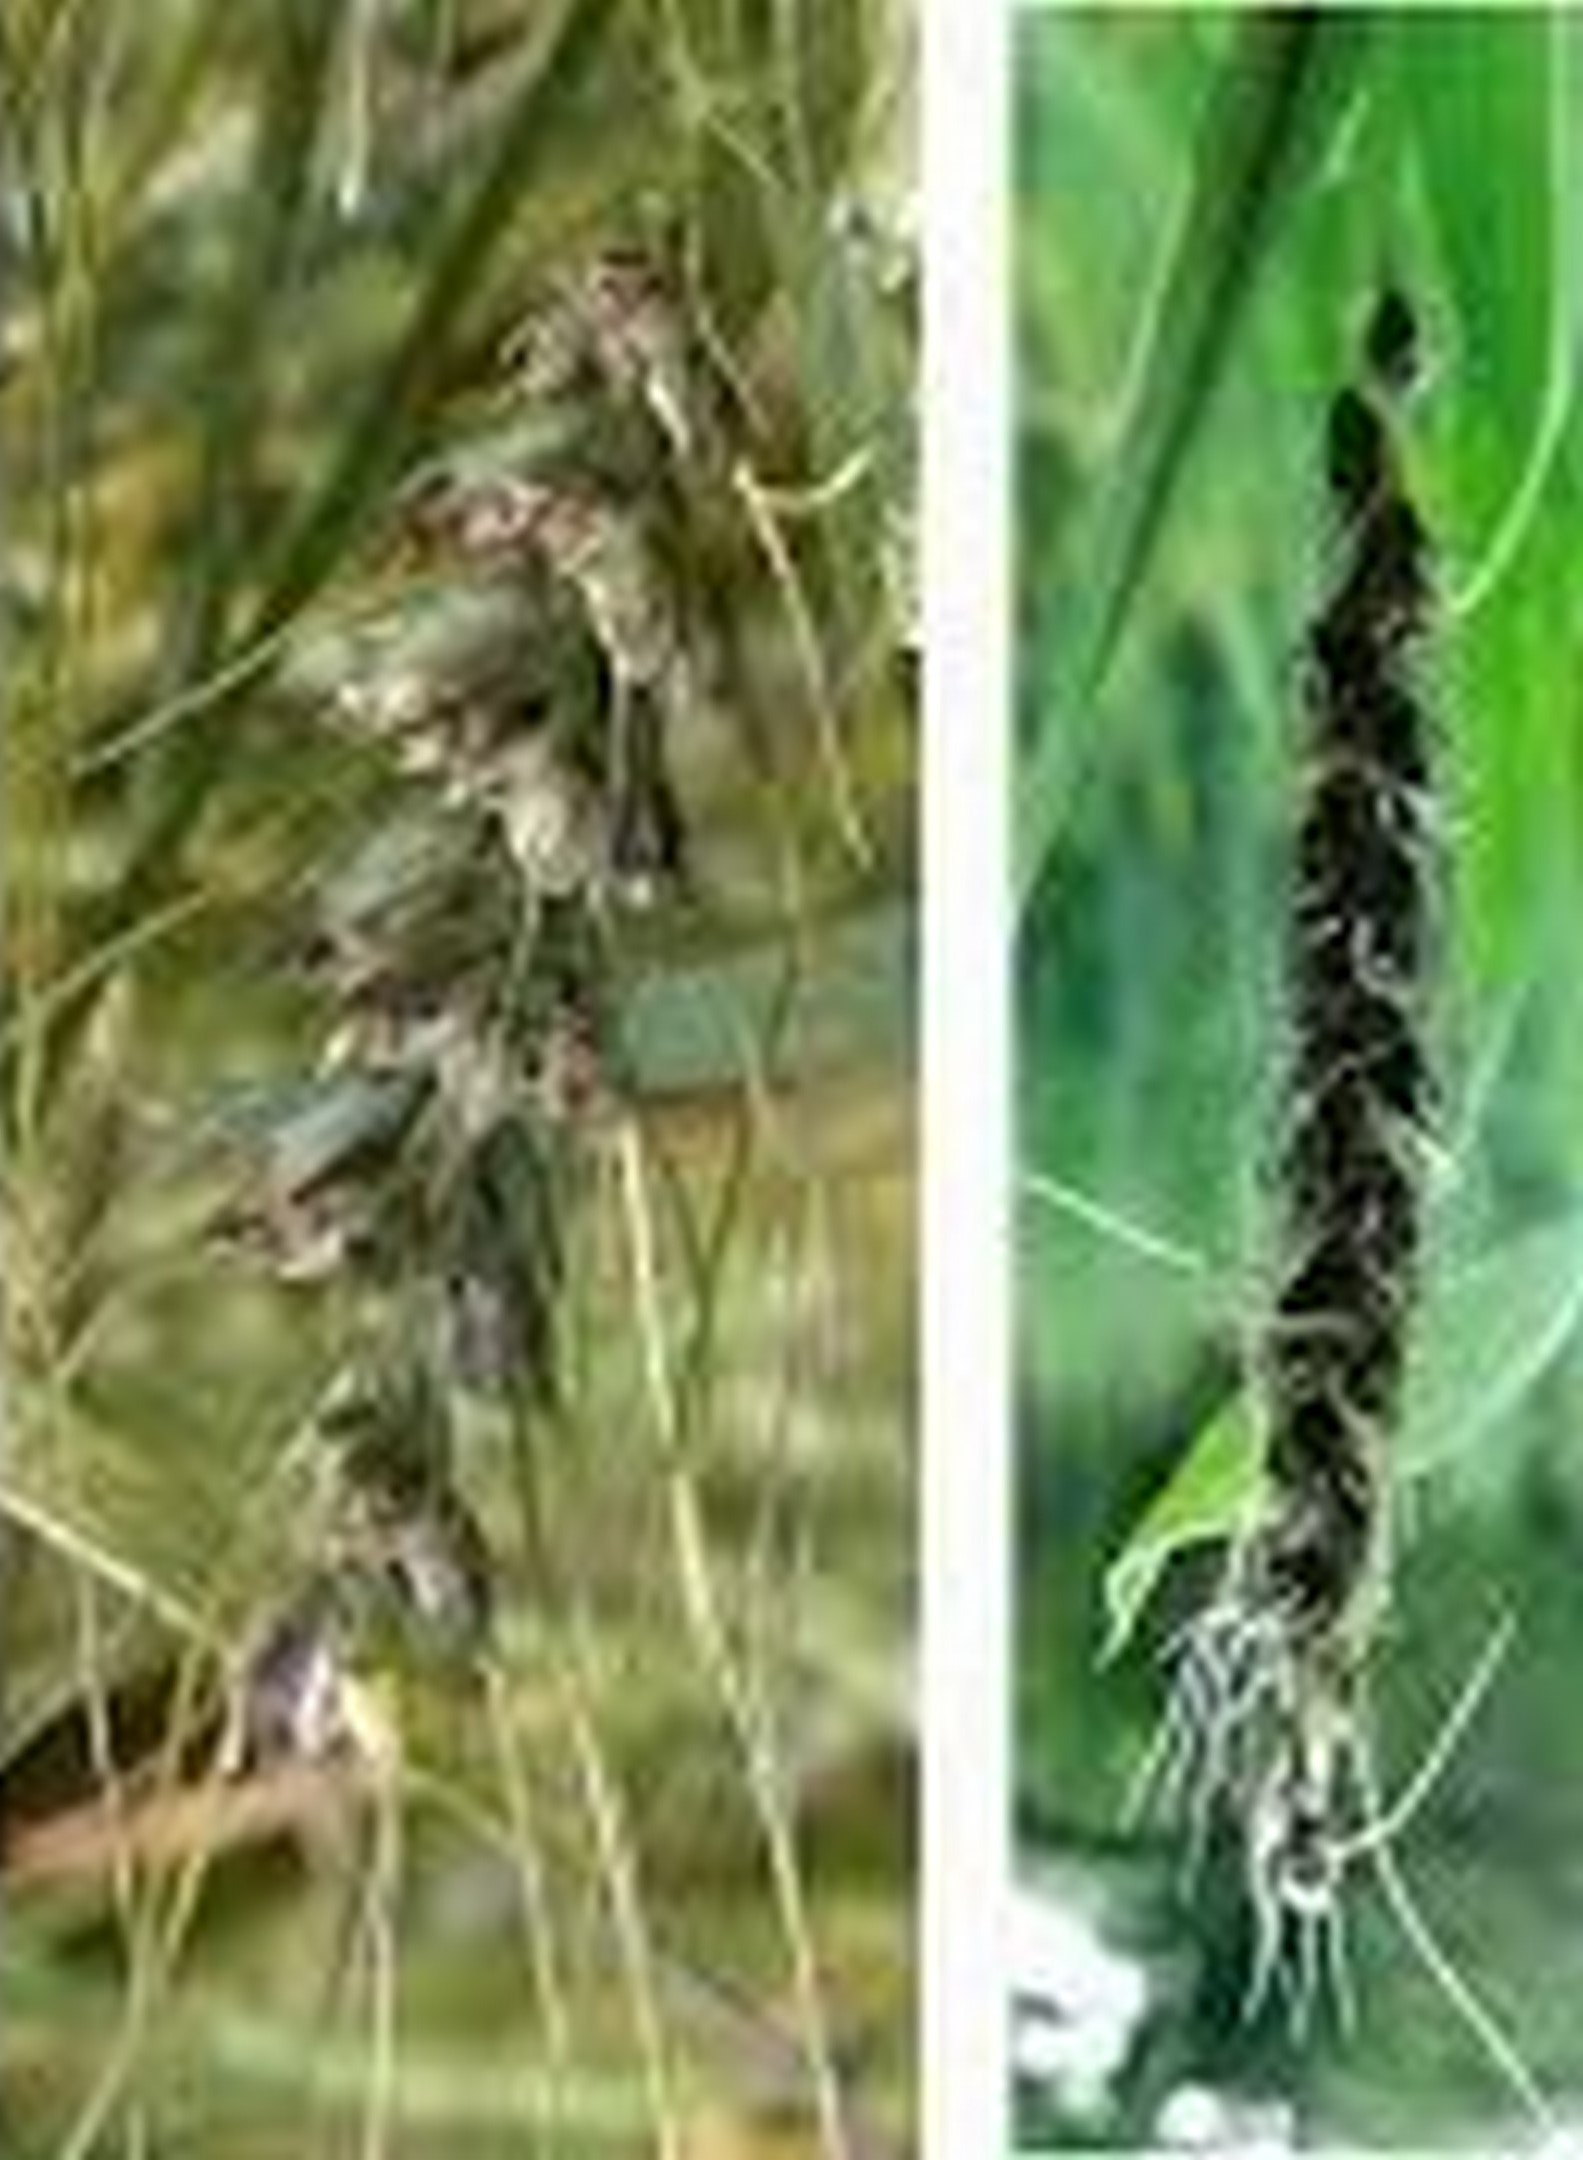Wheat Loose Smut: (1186, 362, 1499, 1803)
